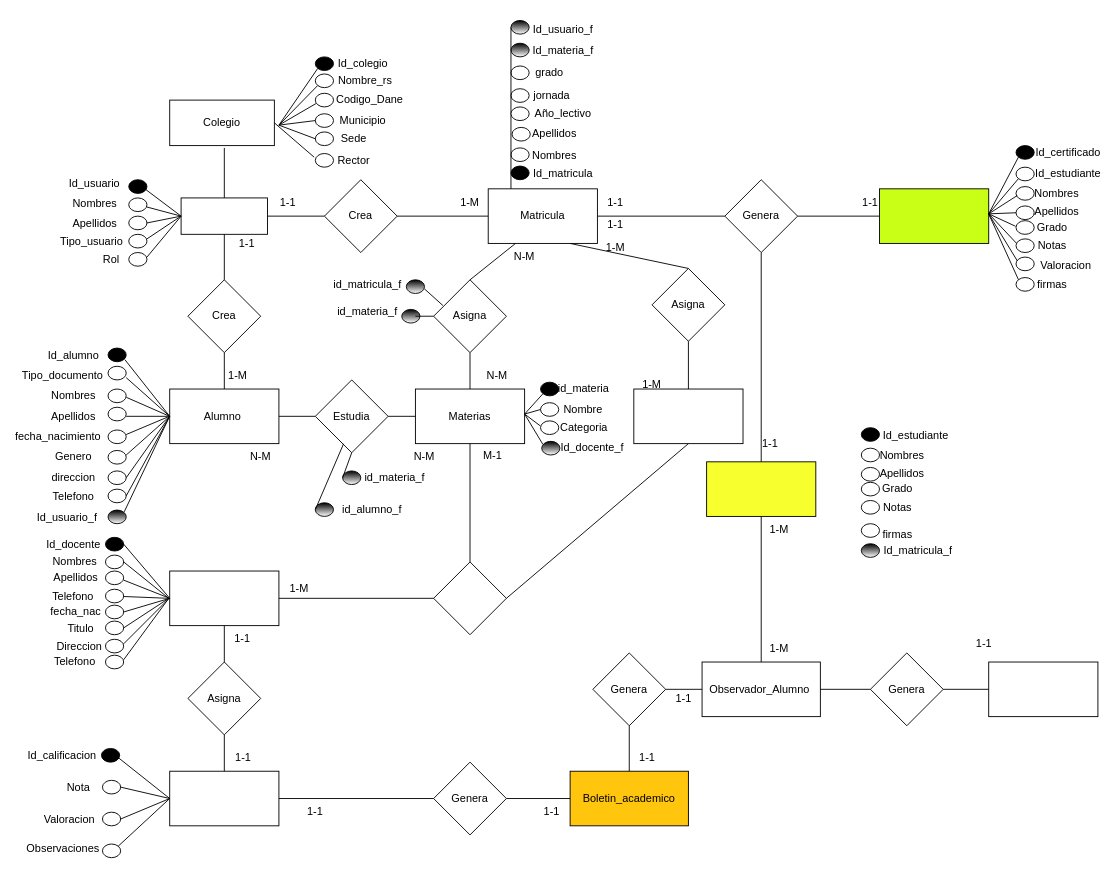
Some shapes in this 1118 by 877 pixel diagram are drawn without their labels. The shapes that lost their labels are listed below. From the top down, each one's box as (x1, y1, x2, y2) in pixels, then its label:
(180, 197, 268, 234): Usuario
(879, 188, 989, 243): Certificado estudio
(633, 388, 743, 444): Horarios
(706, 461, 816, 516): Historial Matricula
(169, 570, 279, 626): Docente
(433, 561, 506, 635): Imparte
(988, 661, 1098, 717): info de retiro alumno
(169, 770, 279, 826): Calificaciones
